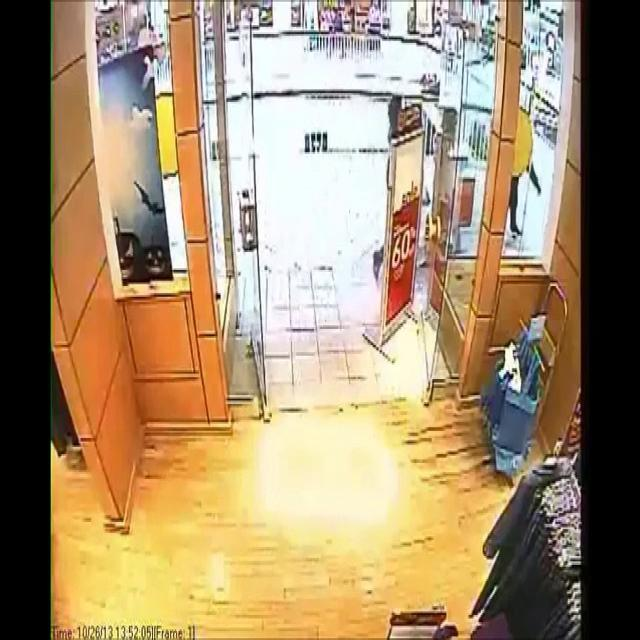normal: (386, 83, 408, 146)
